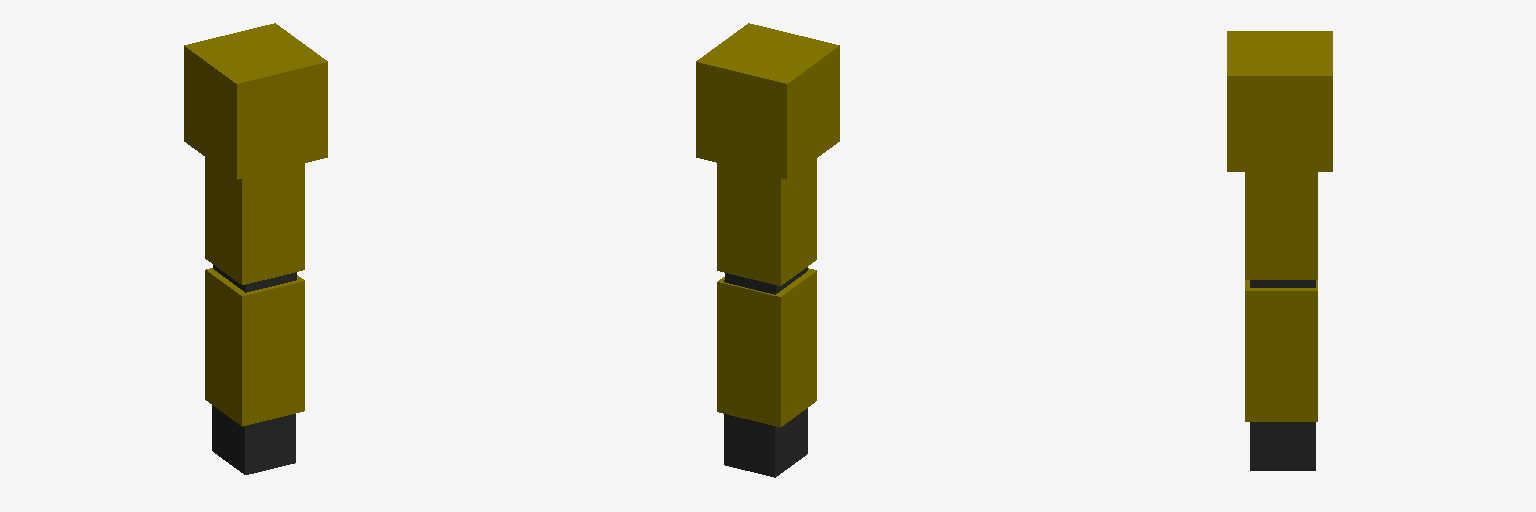
3 renders of one model, left to right at view 1: azimuth 30°, elevation 25°; view 2: azimuth 150°, elevation 25°; view 3: azimuth 270°, elevation 25°, orthographic.
Visible parts, largest first — view 1: LeftArm; view 2: LeftArm; view 3: LeftArm.
Boxes of the visible parts, <box> form: LeftArm: <box>184,23,327,474</box>; LeftArm: <box>696,23,839,477</box>; LeftArm: <box>1227,31,1332,470</box>.
Bounding box in the file's own units: 0.3608 × 1.52 × 0.36.
Materials: 1 (1 with a texture image).